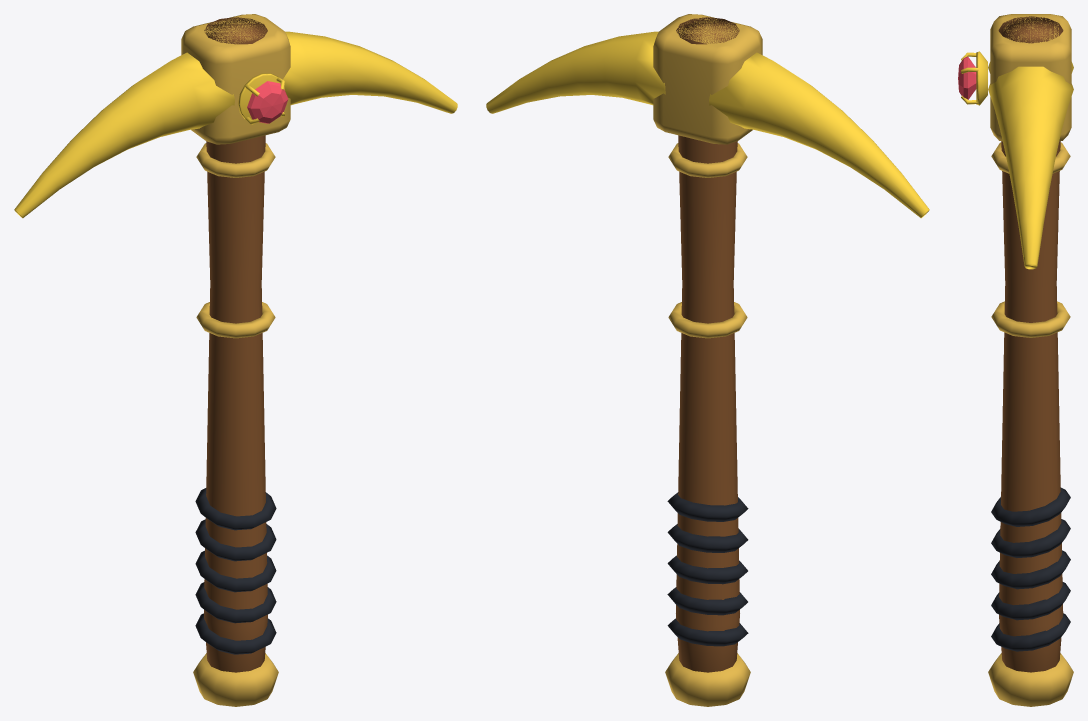
File: IcePick_T4.fbx
The picture shows the model from 3 angles, left to right: view 1: azimuth 30°, elevation 25°; view 2: azimuth 150°, elevation 25°; view 3: azimuth 270°, elevation 25°; orthographic projection.
Parts seen in each view (by area): view 1: IcePickT4Handle, IcePickT4Head, IcePickT4HeadGlow; view 2: IcePickT4Handle, IcePickT4Head; view 3: IcePickT4Handle, IcePickT4Head, IcePickT4HeadGlow.
Part boxes in pixels (<box>): IcePickT4Handle: <box>193,17,278,706</box>; IcePickT4Head: <box>14,14,457,218</box>; IcePickT4HeadGlow: <box>247,81,288,123</box>; IcePickT4Handle: <box>665,17,750,706</box>; IcePickT4Head: <box>486,14,929,218</box>; IcePickT4Handle: <box>988,16,1073,706</box>; IcePickT4Head: <box>961,14,1073,269</box>; IcePickT4HeadGlow: <box>958,56,976,99</box>.
Size of the model in its own units: 237 by 340 by 53.97.
